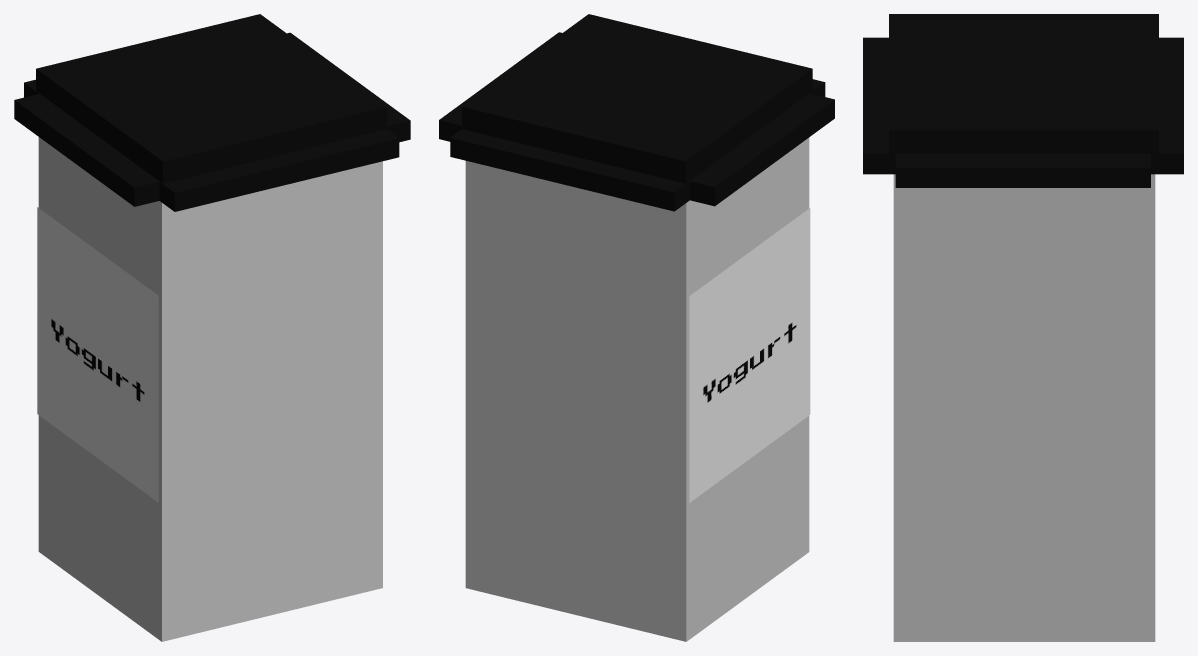
File: big yogurt2.fbx
The picture shows the model from 3 angles, left to right: view 1: azimuth 30°, elevation 25°; view 2: azimuth 150°, elevation 25°; view 3: azimuth 270°, elevation 25°; orthographic projection. The views are drawn at different scales.
Parts seen in each view (by area): view 1: Box130, Box135, Plane004, Box132, Box134, Box133; view 2: Box130, Box135, Plane004, Box131, Box134, Box133; view 3: Box130, Box135, Box133, Box132, Box131.
Boxes of the visible parts, left/top/right/bottom form: Box130: left=38, top=137, right=382, bottom=641; Box135: left=36, top=14, right=386, bottom=183; Plane004: left=37, top=207, right=158, bottom=502; Box132: left=159, top=129, right=399, bottom=211; Box134: left=14, top=93, right=159, bottom=206; Box133: left=287, top=32, right=410, bottom=142; Box130: left=465, top=137, right=809, bottom=641; Box135: left=462, top=14, right=812, bottom=183; Plane004: left=689, top=208, right=810, bottom=502; Box131: left=450, top=129, right=689, bottom=211; Box134: left=689, top=93, right=834, bottom=206; Box133: left=439, top=32, right=562, bottom=141; Box130: left=893, top=174, right=1155, bottom=641; Box135: left=889, top=14, right=1158, bottom=153; Box133: left=895, top=154, right=1150, bottom=187; Box132: left=863, top=37, right=895, bottom=174; Box131: left=1151, top=37, right=1183, bottom=174.
Size of the model in its own units: 6.63 by 11.07 by 6.28.
Materials: 2 (1 with a texture image).
